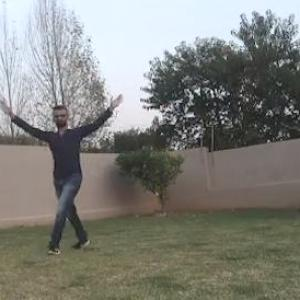takeoff: (1, 89, 126, 258)
